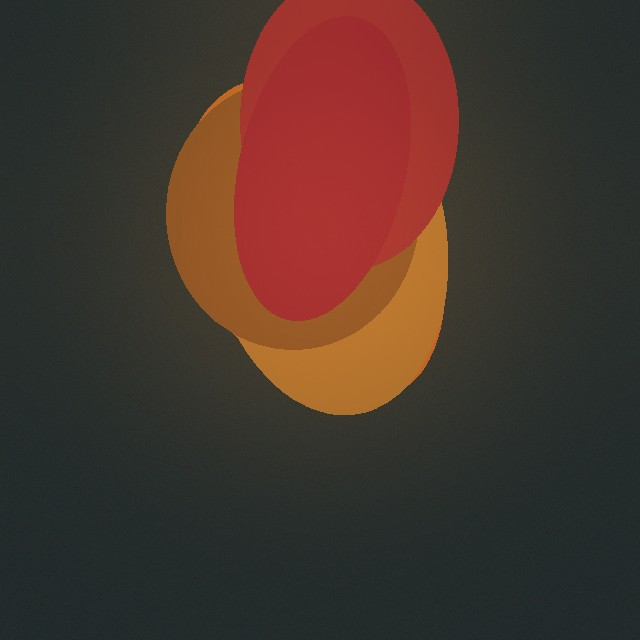fire: (187, 145, 457, 319)
